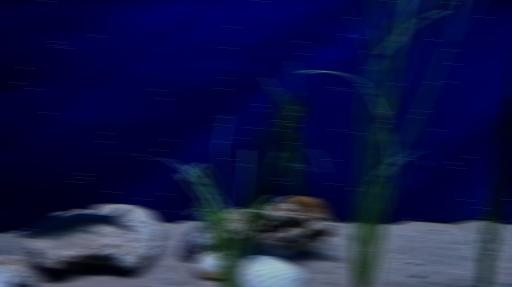Fish: (20, 207, 131, 238)
